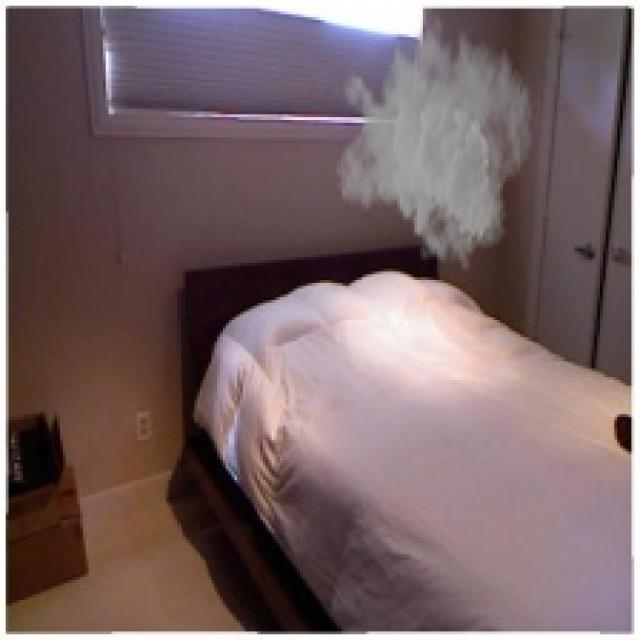smoke: (334, 3, 534, 274)
